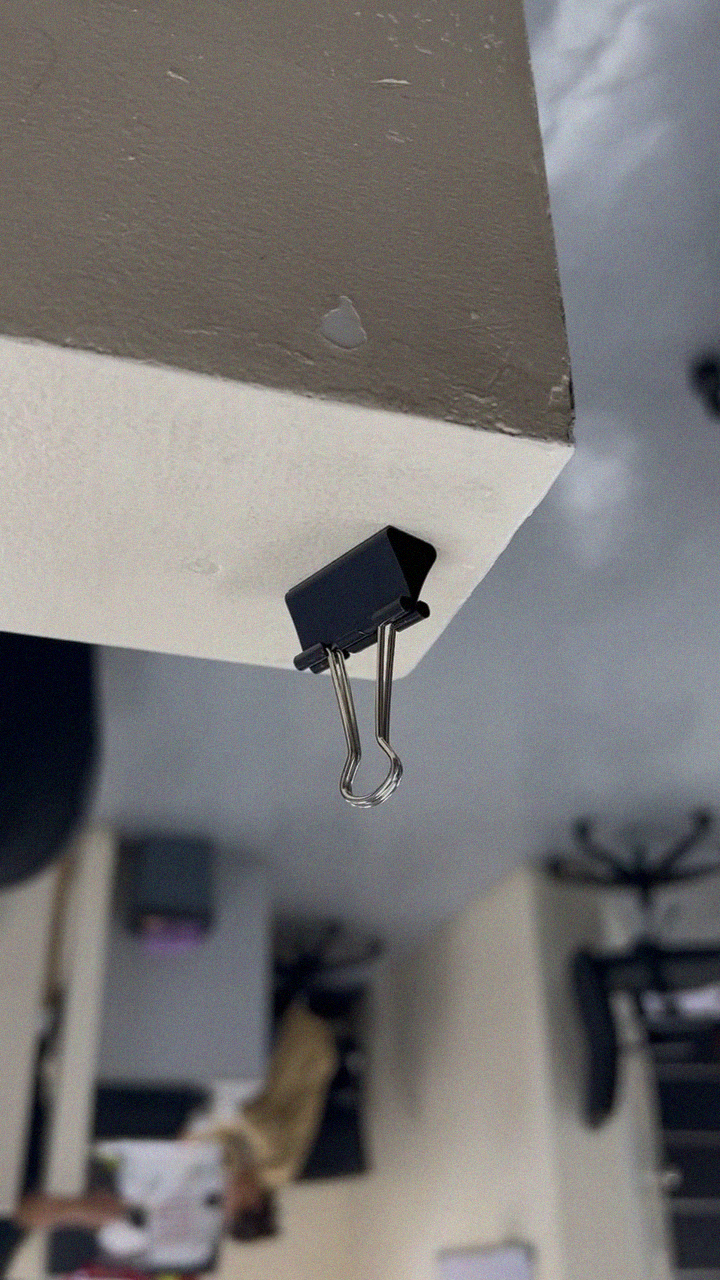kep_giay: (272, 520, 445, 810)
